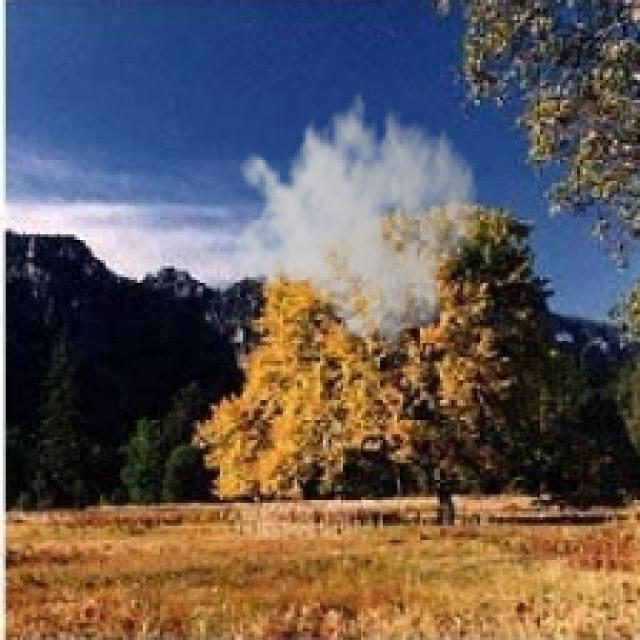smoke: (229, 77, 480, 354)
